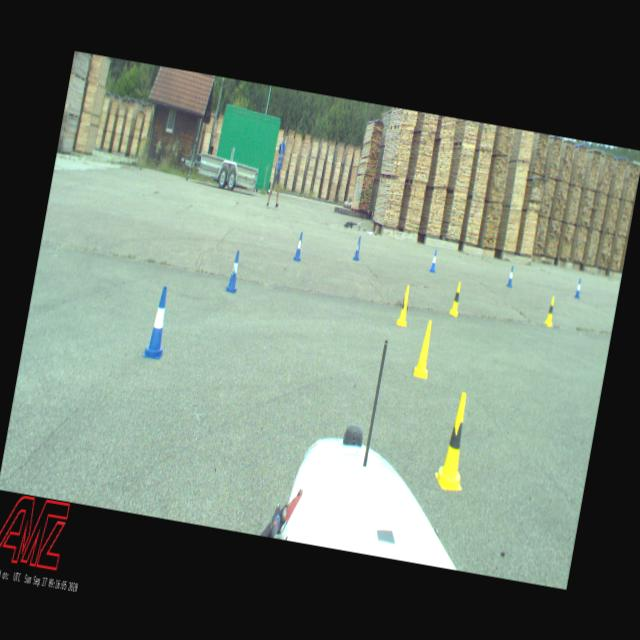blue_cone: (143, 286, 173, 358), (225, 249, 242, 293), (293, 230, 304, 260), (352, 237, 362, 260), (429, 248, 438, 272), (573, 277, 582, 299), (506, 265, 514, 288)
yellow_cone: (432, 391, 478, 492), (412, 318, 436, 380), (395, 284, 413, 328), (449, 280, 463, 316), (544, 295, 556, 325)
